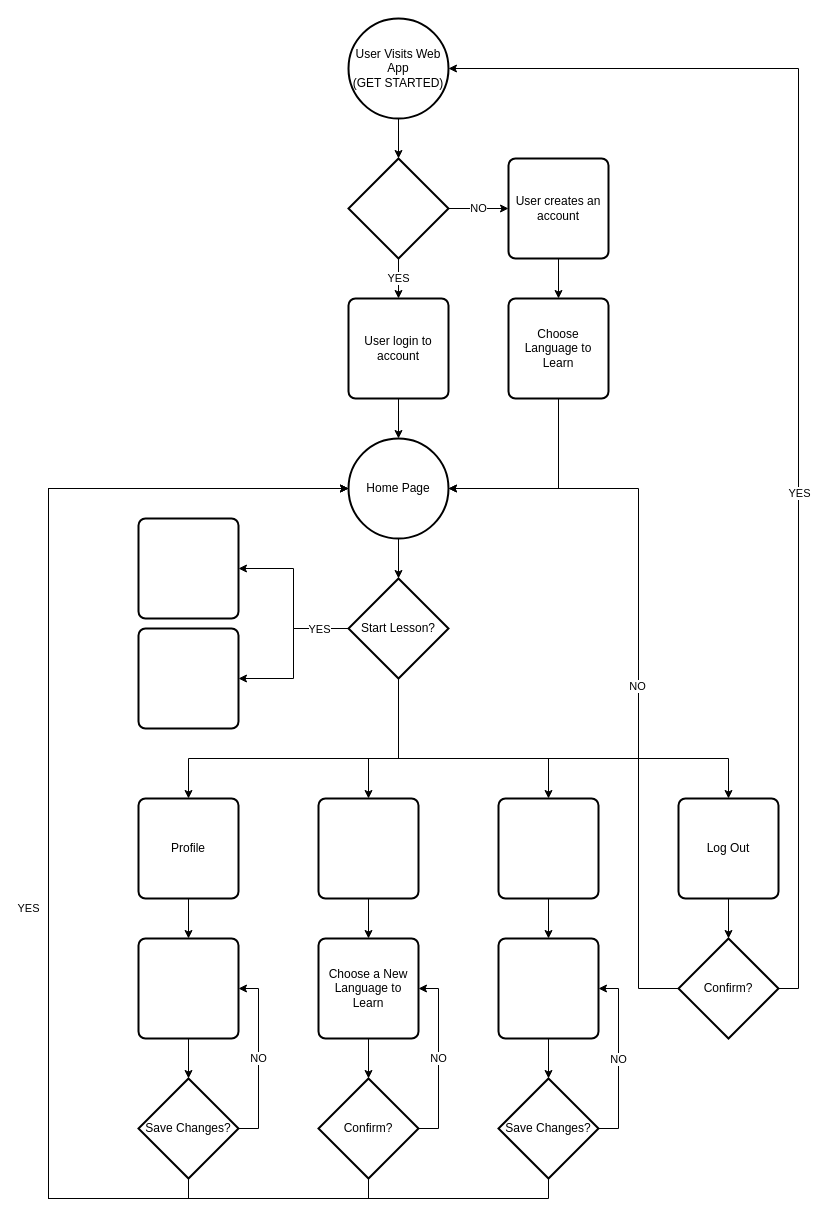
Image size: 827x1224. Some labels were removed from this diagram. Here are the shapes that lost their labels. From the top down, the centre of each, then its label:
At pixel 398 208: "Does user have an account?".
At pixel 188 568: "Language Lesson".
At pixel 188 678: "Practice Exercises".
At pixel 368 848: "Change Language Lesson".
At pixel 548 848: "Settings".
At pixel 188 988: "Customize User Profile (Username, Password, Profile Picture, etc)".
At pixel 548 988: "Customize User Settings (Audio, WebApp Language, etc)".
